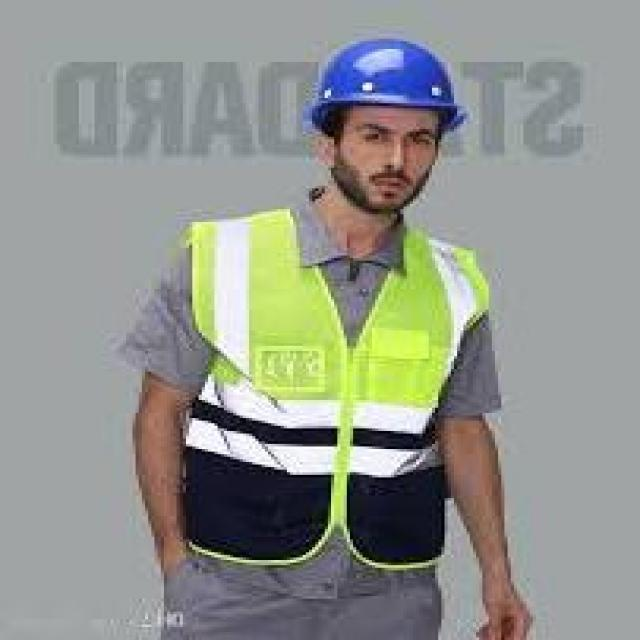Vest: (162, 205, 490, 569)
